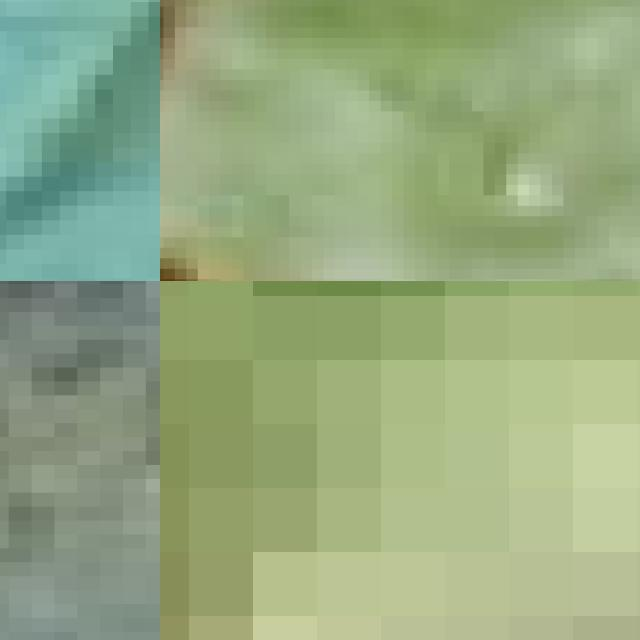fish: (0, 281, 160, 640), (0, 0, 160, 281)
